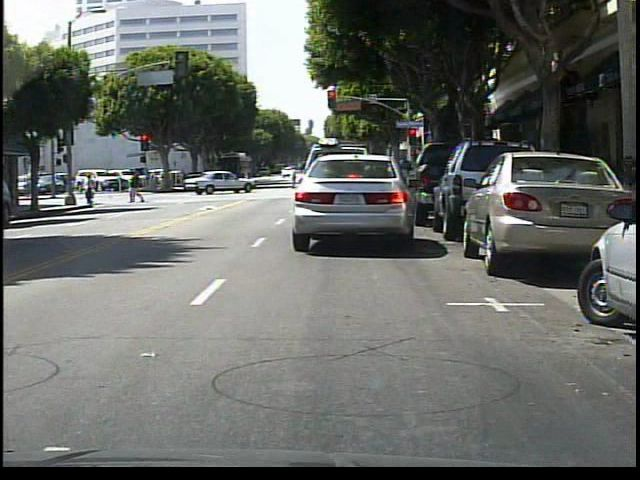person: (129, 172, 145, 205), (85, 173, 100, 207), (289, 167, 298, 190)
